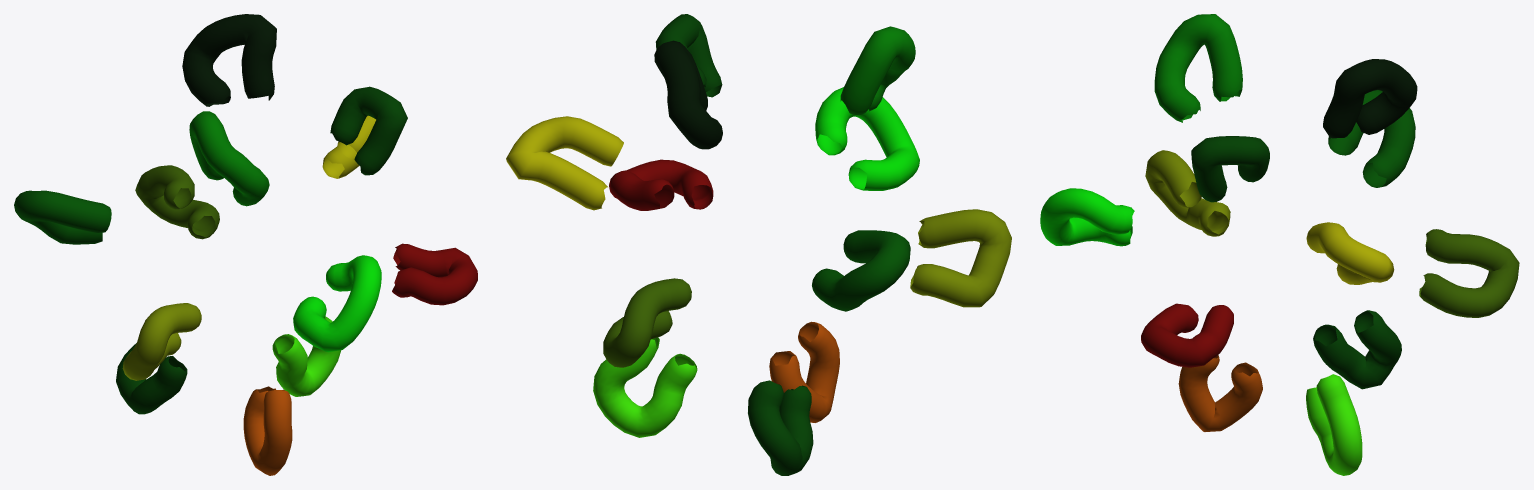
The model's file is SunBlast.fbx.
3 views of the same model, side by side, from view 1: azimuth 30°, elevation 25°; view 2: azimuth 150°, elevation 25°; view 3: azimuth 270°, elevation 25° (orthographic). The views are drawn at different scales.
Parts seen in each view (by area): view 1: SunBlast; view 2: SunBlast; view 3: SunBlast.
Part boxes in pixels (<box>): SunBlast: <box>14,14,477,475</box>; SunBlast: <box>506,14,1011,475</box>; SunBlast: <box>1040,14,1519,475</box>.
Bounding box in the file's own units: 233 × 235 × 257.
